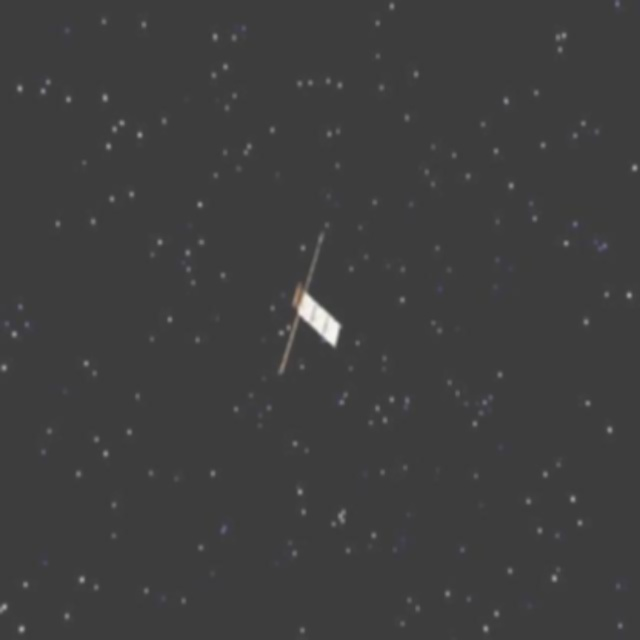satellite: (265, 229, 346, 394)
